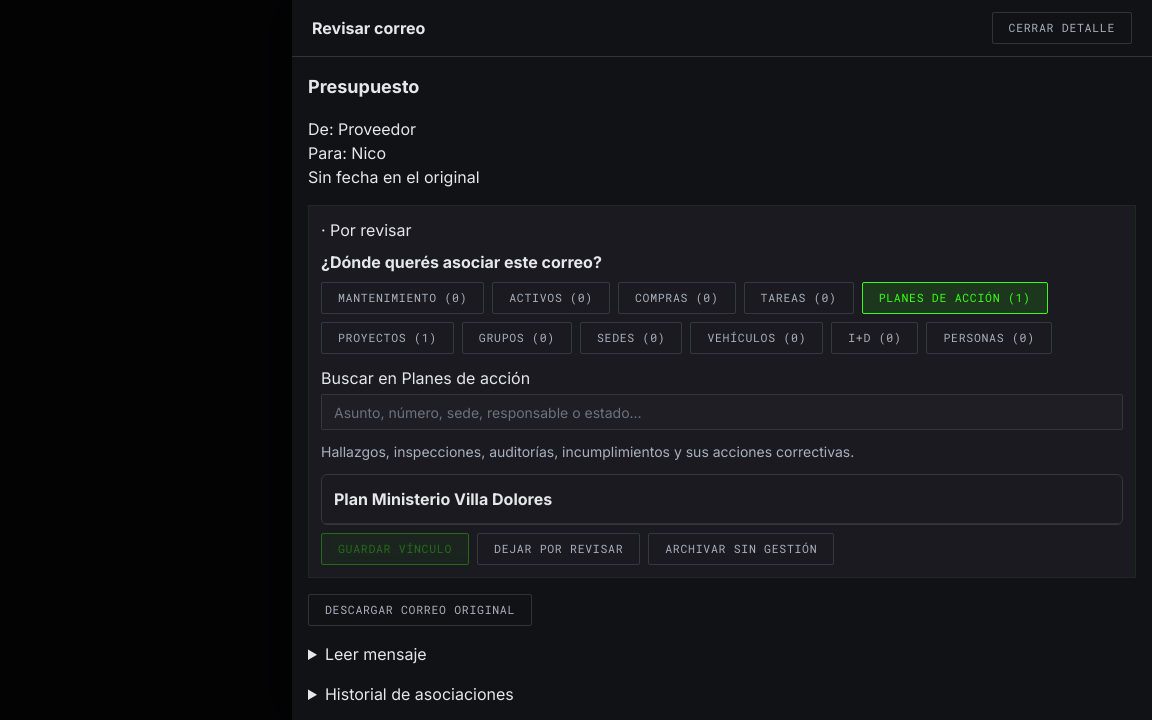
Test: Bandeja de correos › separa los planes de acción de los proyectos de gestión
The image size is (1152, 720).
Check: the heading "Presupuesto" is shown, box [308,76,419,97]
Check: the text "Plan Ministerio Villa Dolores" is shown, box [334,489,552,509]
Click the tab "Proyectos (1)": (387, 338) [321,322,454,354]
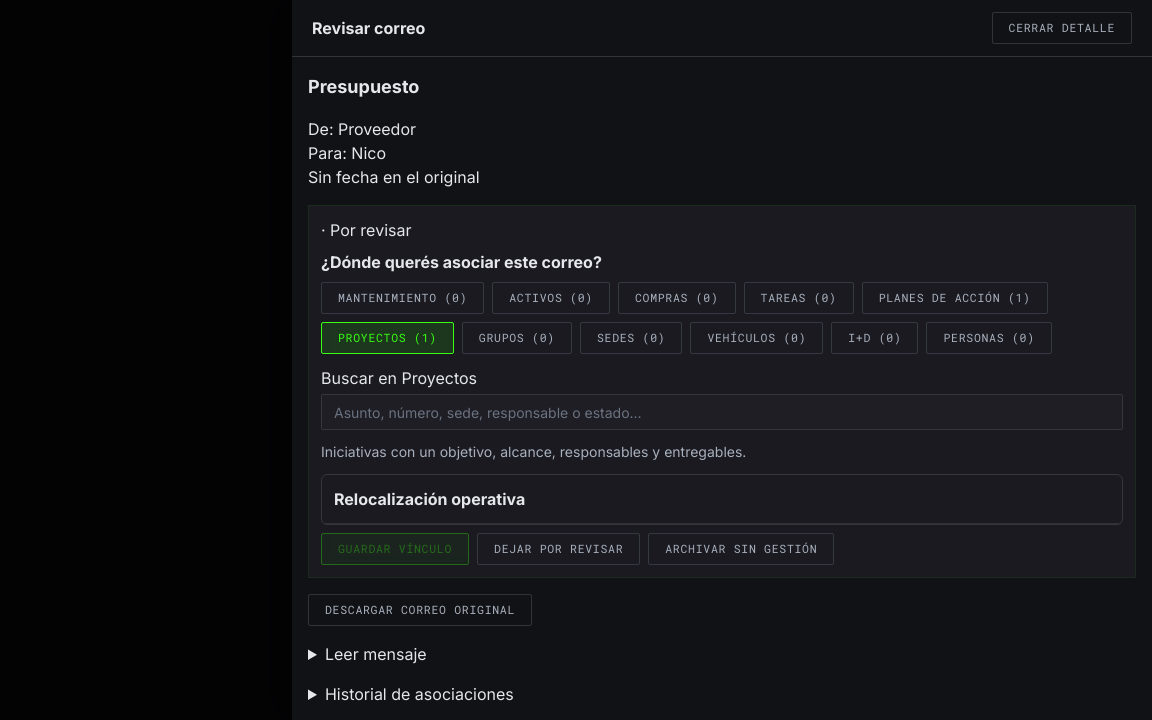
Check: the text "Relocalización operativa" is shown, box [334,489,525,509]
Check: the option "Plan Ministerio Villa Dolores" is gone
